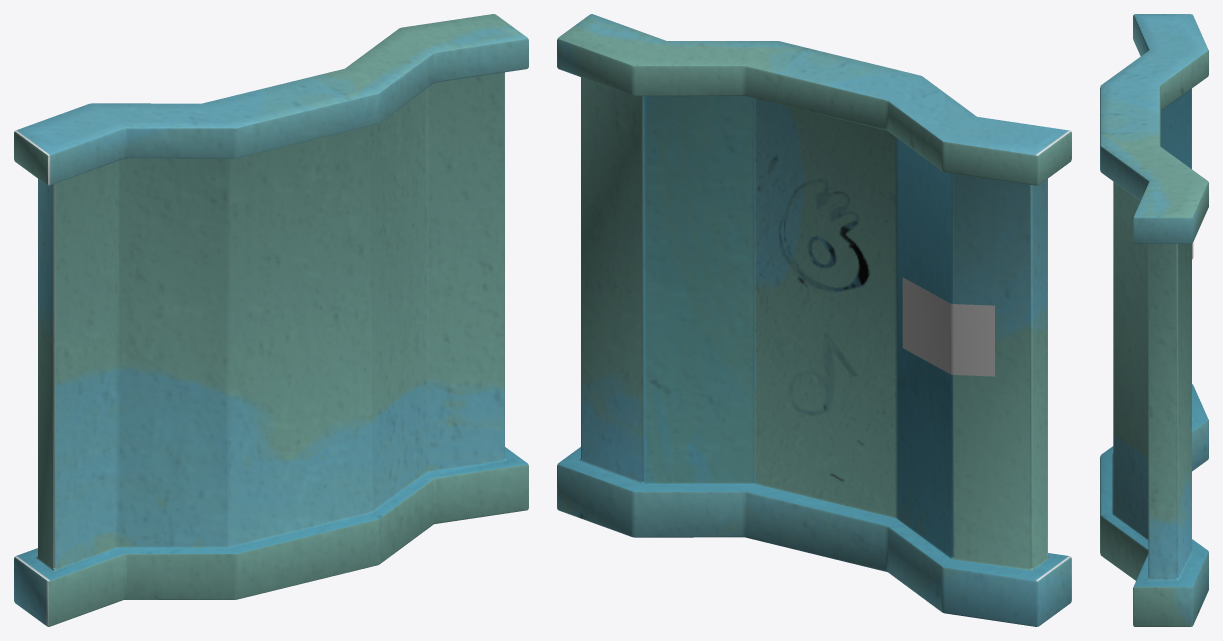
File: TOMB_WALL_3_001.obj
3 renders of one model, left to right at view 1: azimuth 30°, elevation 25°; view 2: azimuth 150°, elevation 25°; view 3: azimuth 270°, elevation 25°, orthographic. The views are drawn at different scales.
Visible parts, largest first — view 1: TOMB_WALL_3_001; view 2: TOMB_WALL_3_001; view 3: TOMB_WALL_3_001.
Part boxes in pixels (left/top/right/bottom): TOMB_WALL_3_001: left=14, top=14, right=528, bottom=626; TOMB_WALL_3_001: left=557, top=14, right=1071, bottom=626; TOMB_WALL_3_001: left=1100, top=14, right=1208, bottom=626.
Bounding box in the file's own units: 3.2 × 3 × 0.7206.
